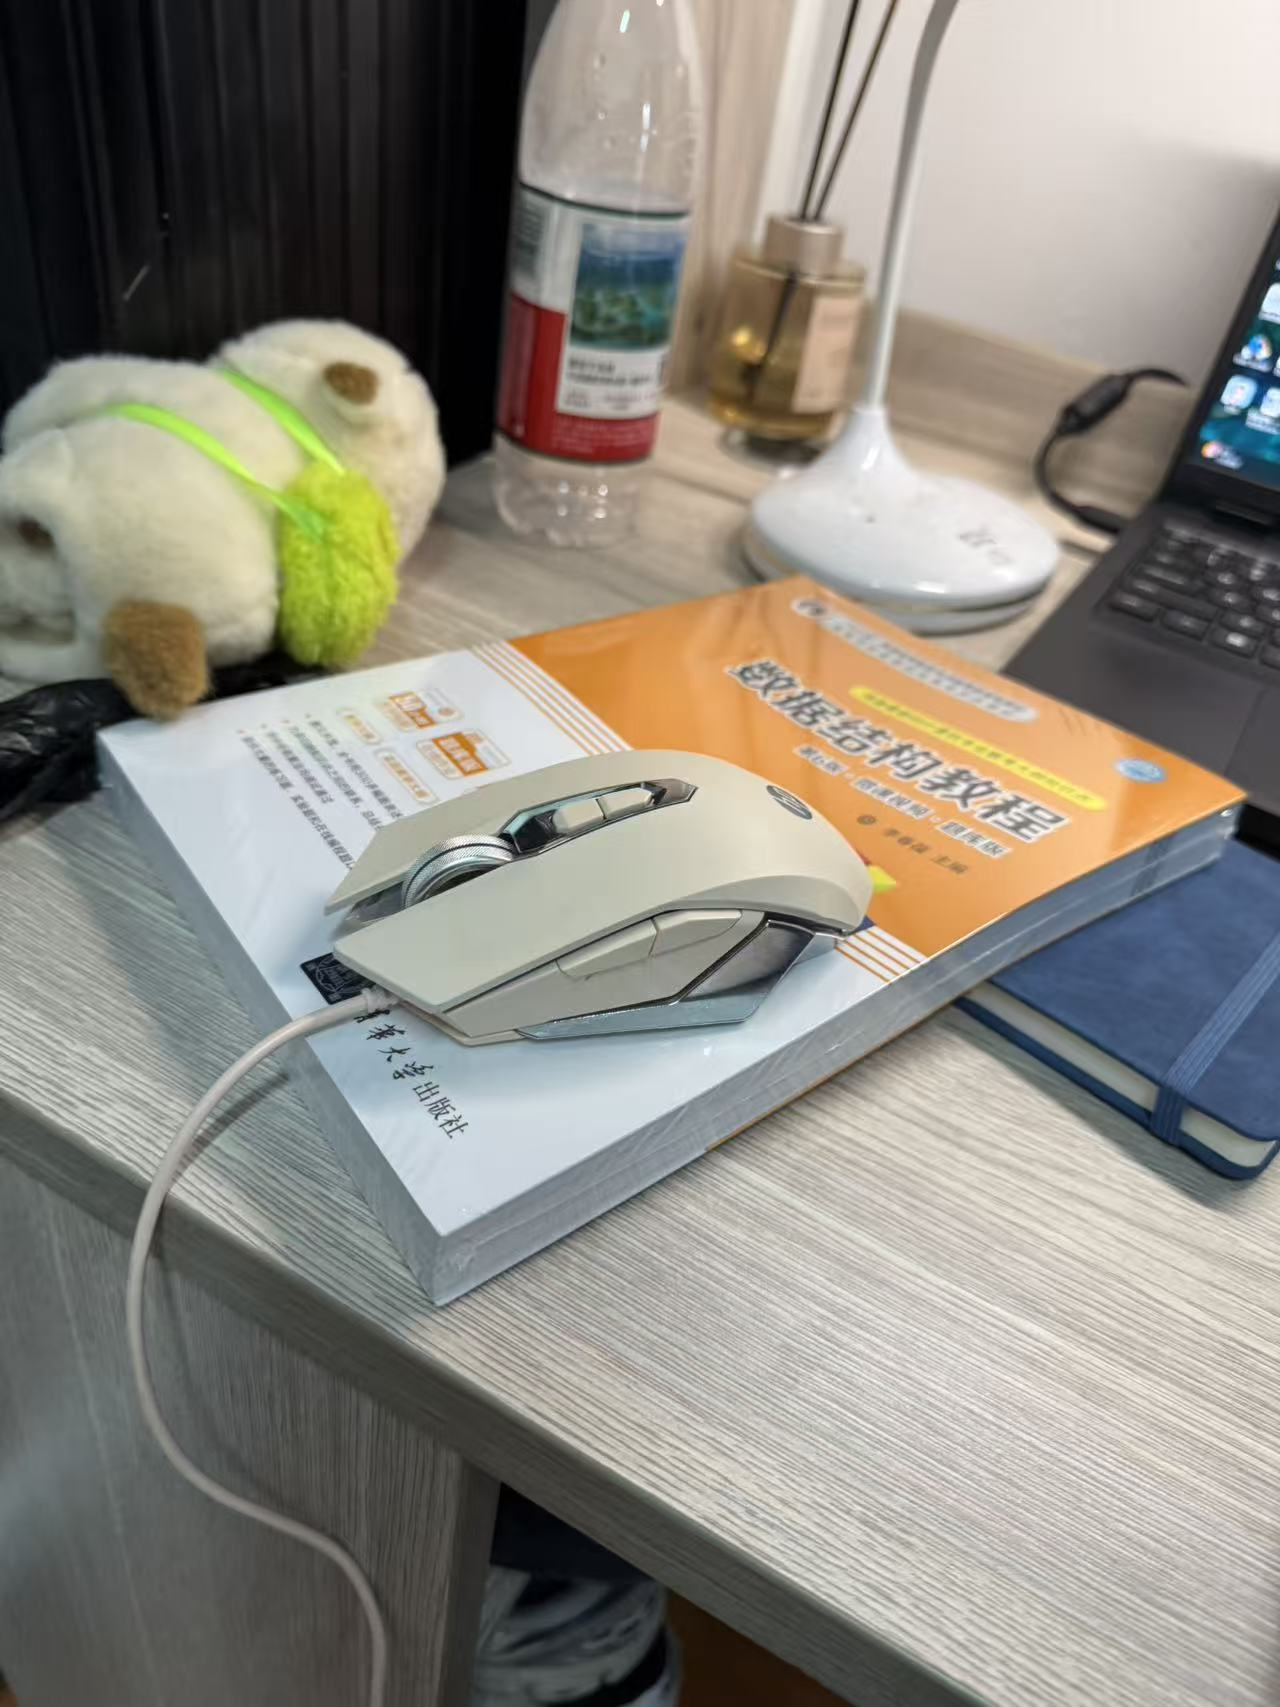mouse: (294, 751, 925, 1077)
